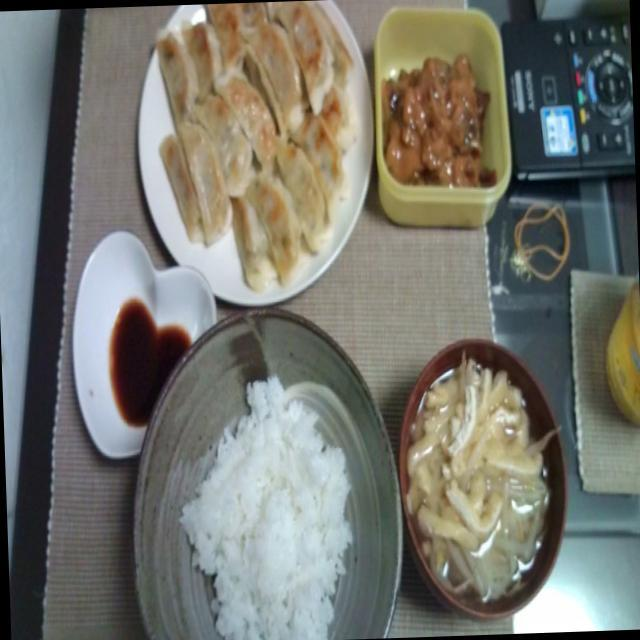Rice: (185, 364, 365, 640)
